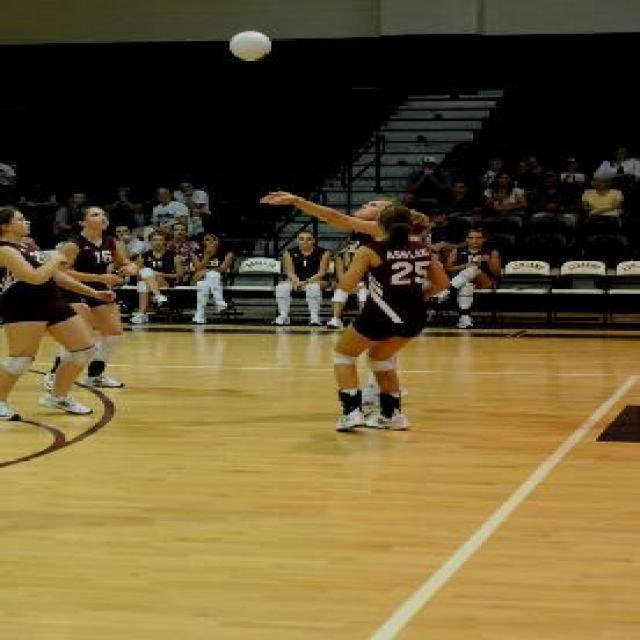volleyball: (229, 32, 271, 60)
